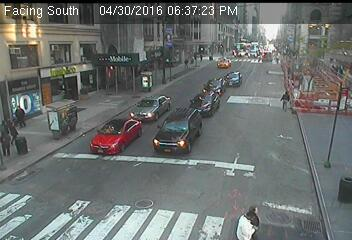neg: (76, 166, 102, 200), (322, 127, 341, 154), (212, 120, 231, 146), (107, 119, 125, 143), (167, 119, 184, 141), (208, 71, 225, 93), (249, 127, 265, 148), (246, 91, 262, 112), (101, 81, 114, 98), (141, 68, 154, 85), (306, 48, 318, 63), (265, 48, 273, 58)
pos: (241, 203, 267, 237), (236, 208, 259, 239), (11, 102, 30, 128), (277, 87, 296, 112), (5, 120, 21, 142), (182, 57, 191, 69), (193, 50, 201, 60), (199, 52, 206, 61)
